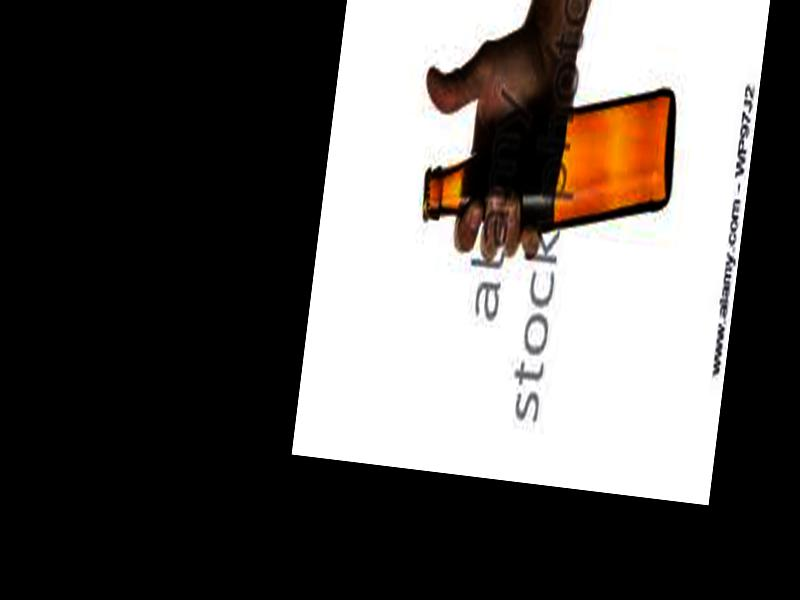Beer: (422, 59, 681, 253)
